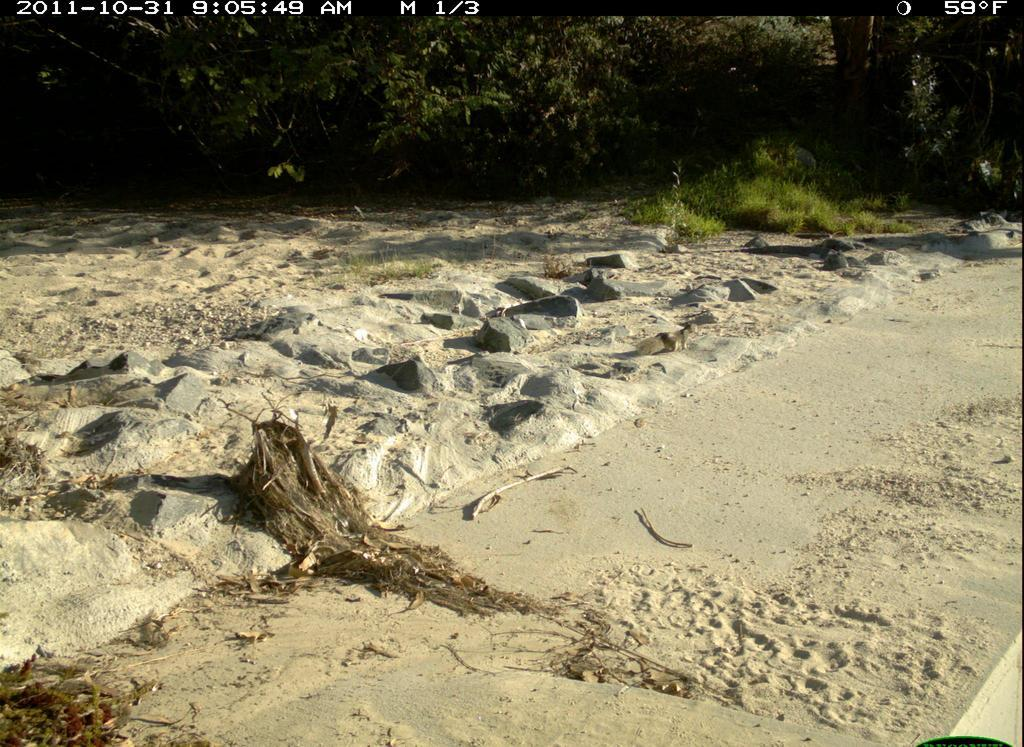squirrel: (636, 319, 701, 358)
